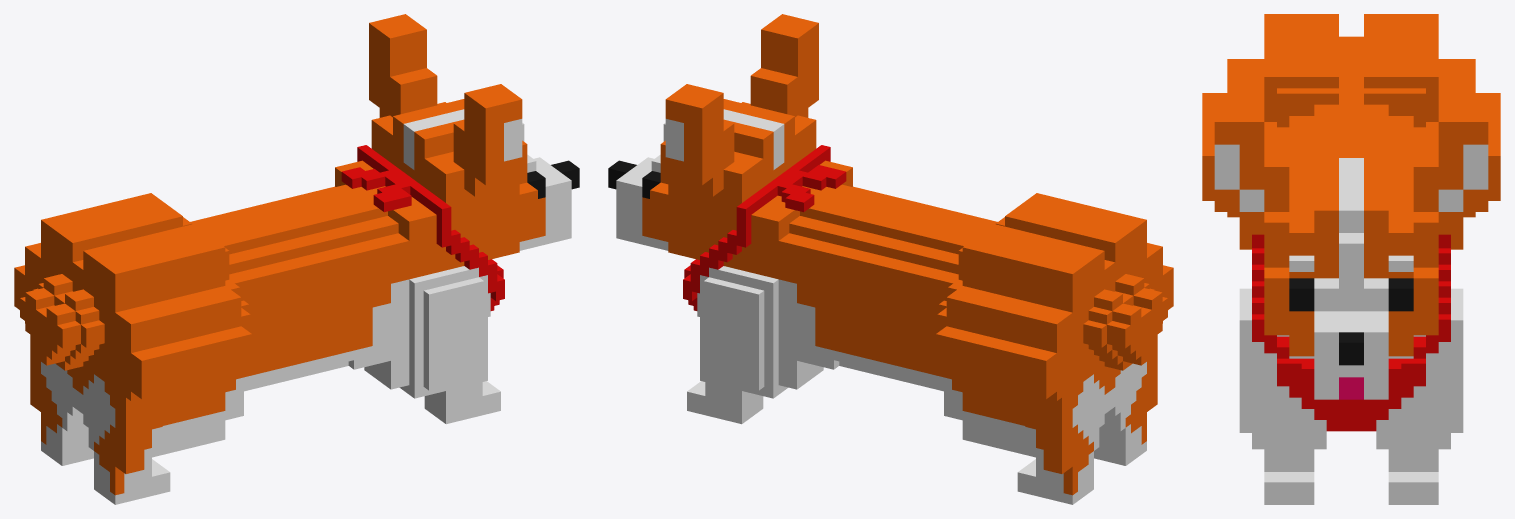
The model's file is Corgi2.obj.
3 views of the same model, side by side, from view 1: azimuth 30°, elevation 25°; view 2: azimuth 150°, elevation 25°; view 3: azimuth 270°, elevation 25° (orthographic). The views are drawn at different scales.
Bounding box in the file's own units: 5.8 × 3.4 × 2.4.
Materials: 1 (1 with a texture image).
